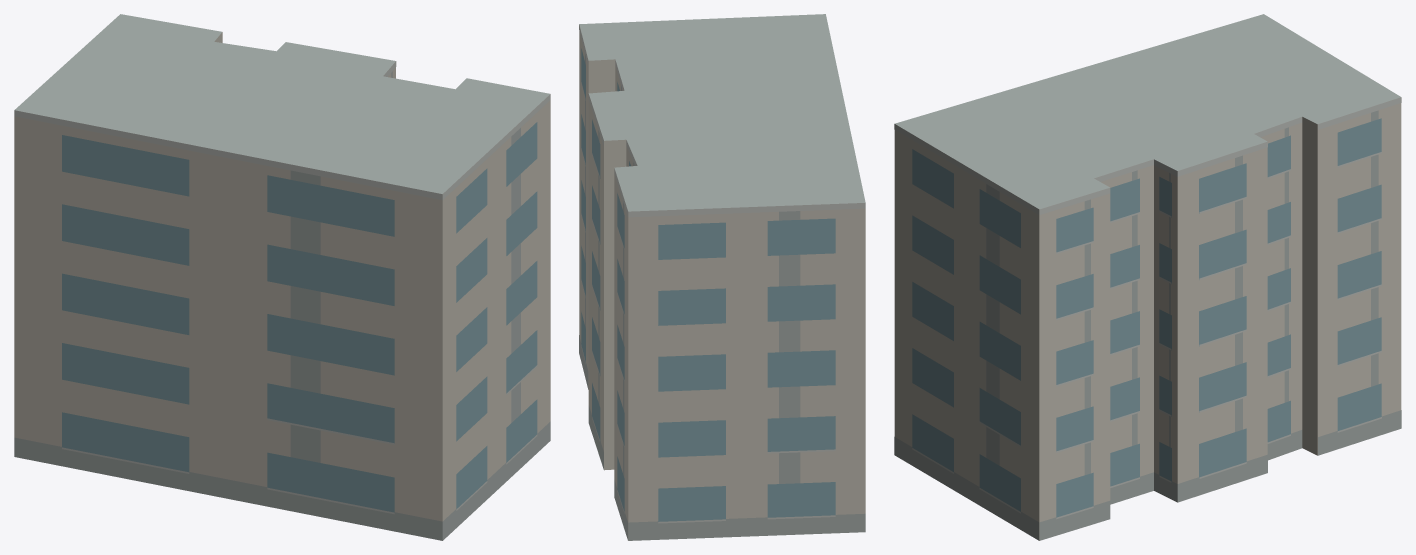
The model's file is survey-upis-32814821.glb.
3 renders of one model, left to right at view 1: azimuth 30°, elevation 25°; view 2: azimuth 150°, elevation 25°; view 3: azimuth 270°, elevation 25°, orthographic. The views are drawn at different scales.
Visible parts, largest first — view 1: survey-upis-32814821.tmp; view 2: survey-upis-32814821.tmp; view 3: survey-upis-32814821.tmp.
Part boxes in pixels (x1,y1,x2,y2): survey-upis-32814821.tmp: (14,14,550,540); survey-upis-32814821.tmp: (579,14,865,540); survey-upis-32814821.tmp: (894,14,1401,540).
Bounding box in the file's own units: 17.58 × 13.9 × 19.28.
